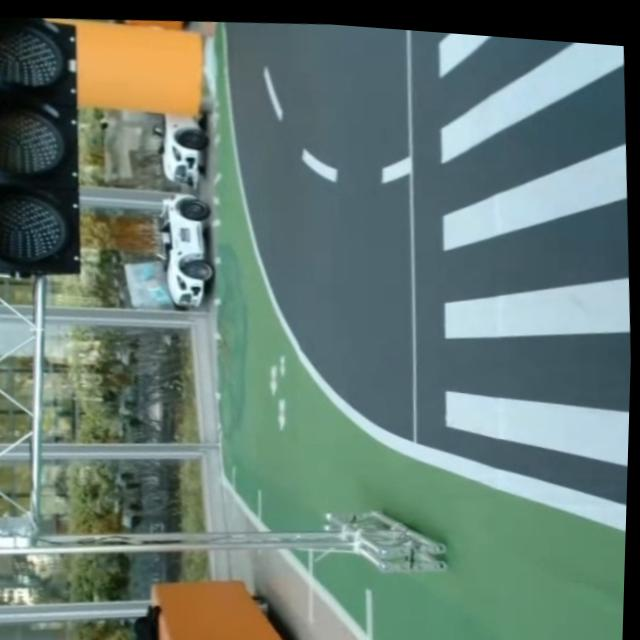traffic-light: (0, 12, 96, 290)
